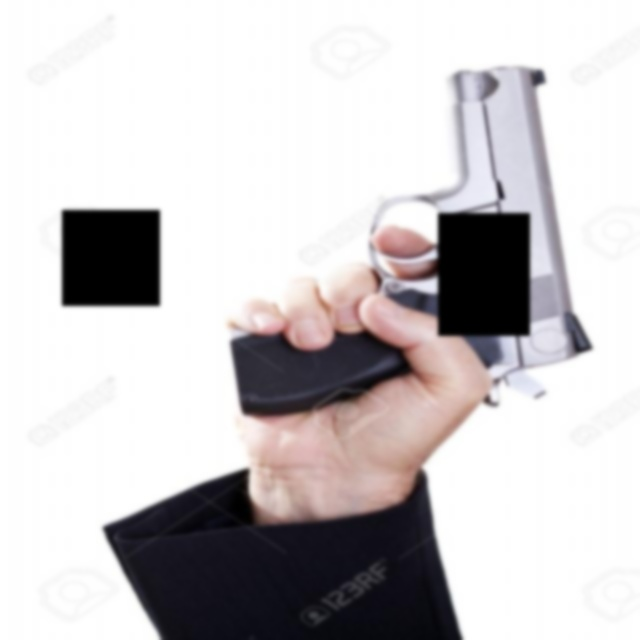gun: (196, 40, 621, 480)
